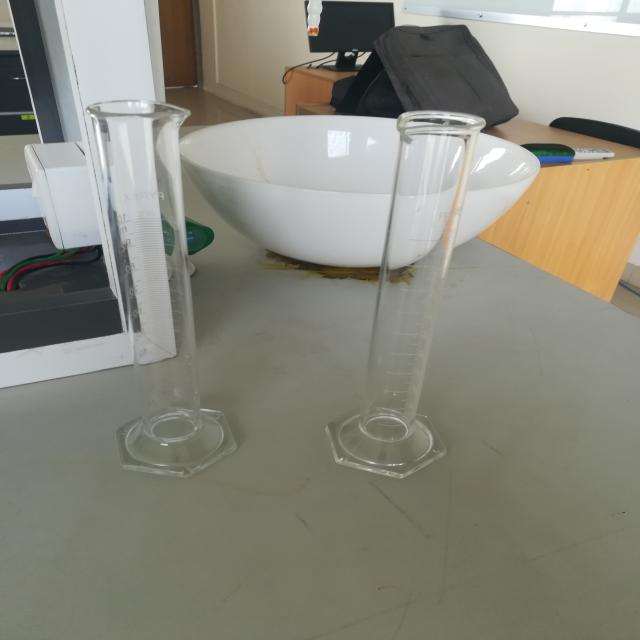Measuring_Cylinder: (56, 73, 278, 494), (308, 76, 507, 500)
